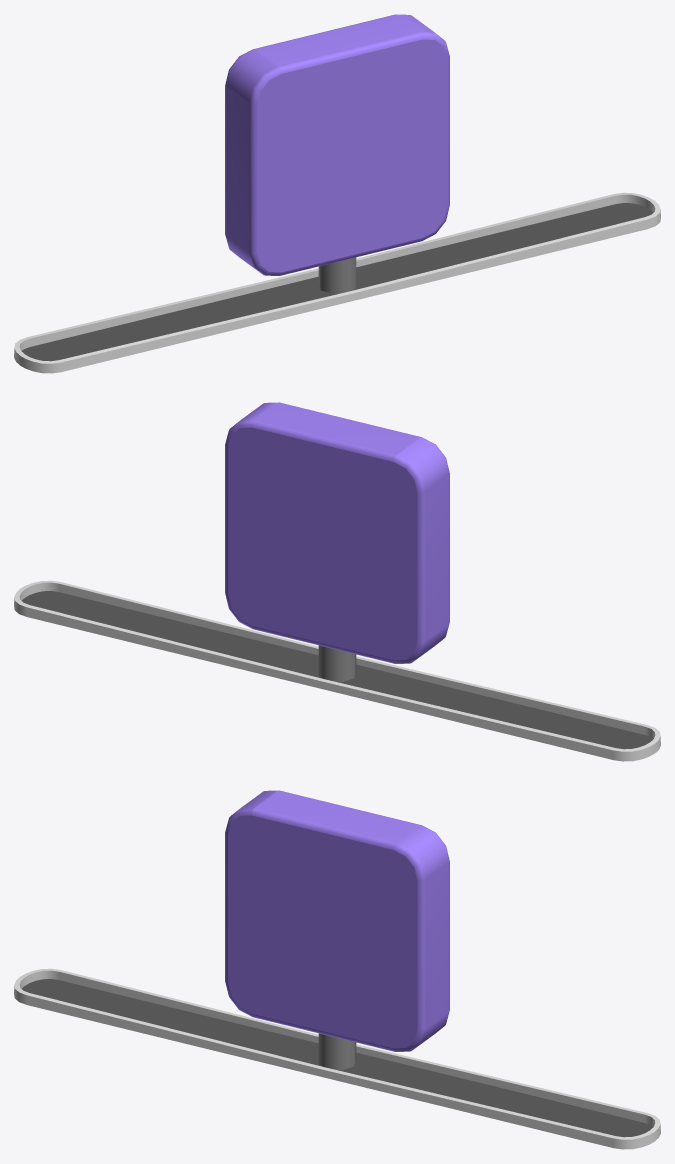
The model's file is Obstacle_53.fbx.
The picture shows the model from 3 angles, top to bottom: view 1: azimuth 30°, elevation 25°; view 2: azimuth 150°, elevation 25°; view 3: azimuth 330°, elevation 25°; orthographic projection.
Visible parts, largest first — view 1: Bia, De; view 2: Bia, De; view 3: Bia, De.
Part boxes in pixels (x1,y1,x2,y2): Bia: (225, 14, 449, 294); De: (14, 192, 660, 373); Bia: (225, 402, 449, 682); De: (14, 580, 660, 761); Bia: (225, 790, 449, 1070); De: (14, 968, 660, 1149).
Size of the model in its own units: 5.5 by 2.04 by 0.5226.
